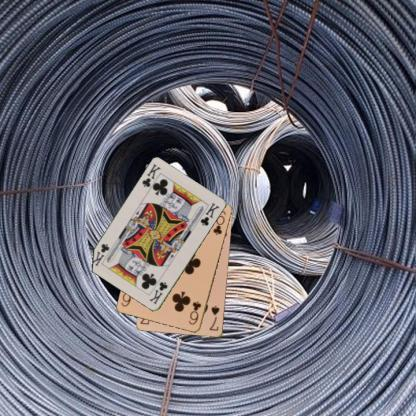6c: (186, 299, 202, 326)
7s: (207, 303, 221, 332)
Kc: (140, 162, 162, 189), (146, 280, 168, 306)
